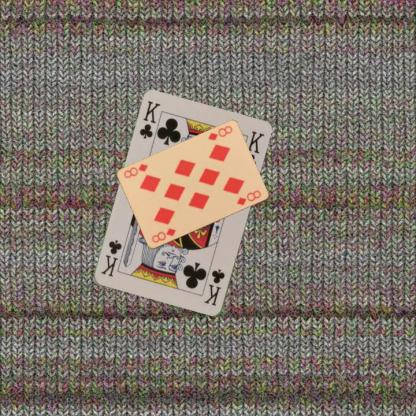8d: (205, 123, 234, 142), (149, 226, 177, 244)
Kc: (137, 98, 162, 140), (201, 267, 227, 307)
